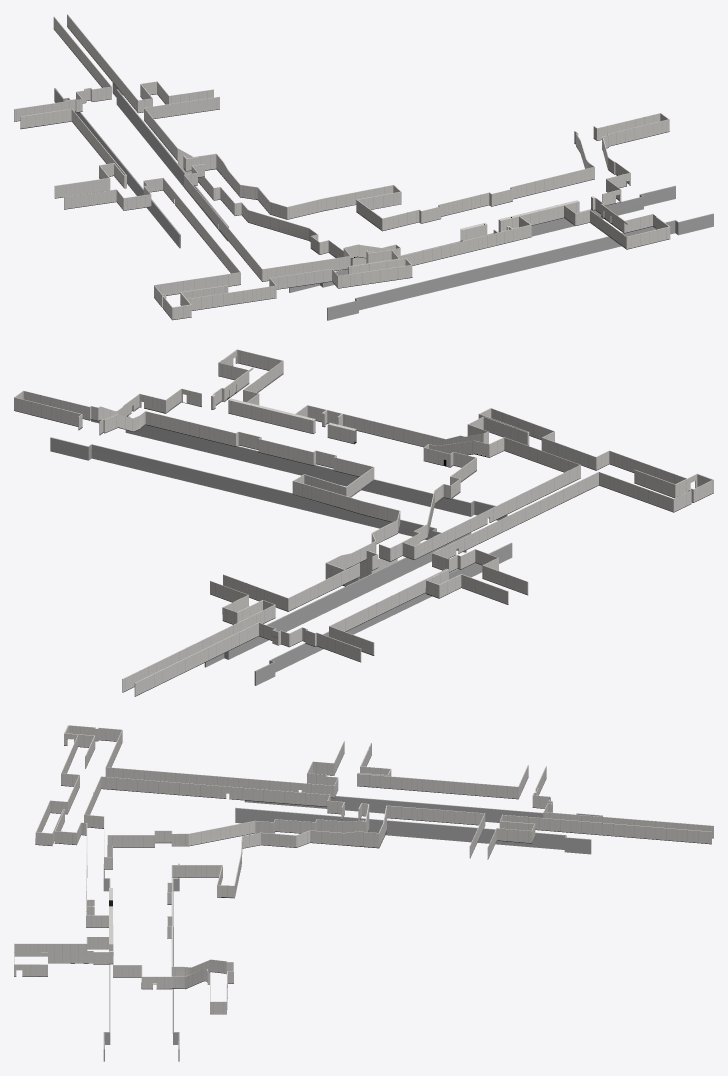
The model's file is dfzmNoDraco-opt.glb.
3 renders of one model, top to bottom at view 1: azimuth 30°, elevation 25°; view 2: azimuth 150°, elevation 25°; view 3: azimuth 270°, elevation 25°, orthographic. The views are drawn at different scales.
Parts seen in each view (by area): view 1: line3-hall-wall, line3-platform-wall; view 2: line3-hall-wall, line3-platform-wall; view 3: line3-hall-wall, line3-platform-wall.
Boxes of the visible parts, left/top/right/bottom form: line3-hall-wall: left=14, top=14, right=670, bottom=320; line3-platform-wall: left=54, top=83, right=713, bottom=320; line3-hall-wall: left=14, top=349, right=713, bottom=696; line3-platform-wall: left=50, top=416, right=512, bottom=685; line3-hall-wall: left=14, top=725, right=713, bottom=1014; line3-platform-wall: left=103, top=796, right=602, bottom=1061.
Size of what is drawn, in the model's own units: 236 by 27.25 by 255.
Materials: 2 (1 with a texture image).
